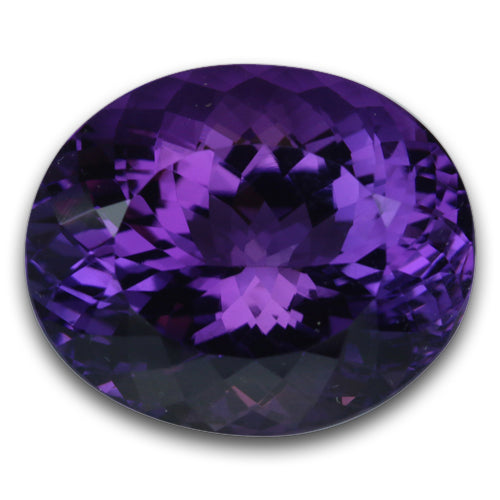Amethyst: (23, 63, 477, 439)
